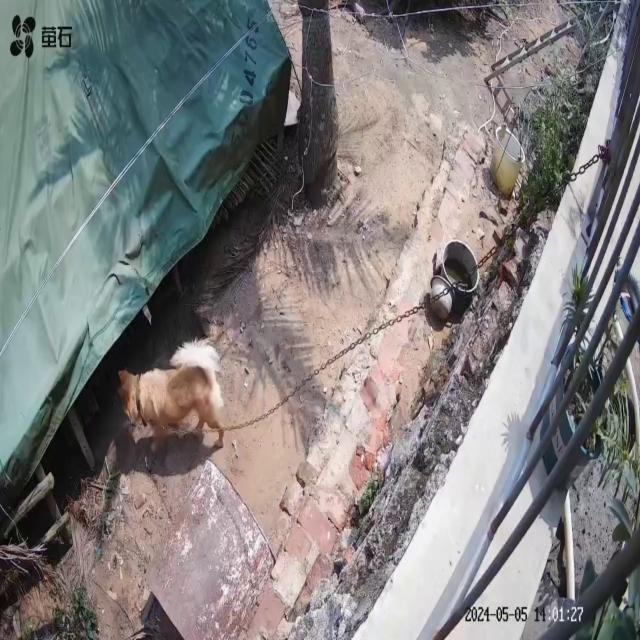dog: (118, 337, 226, 448)
